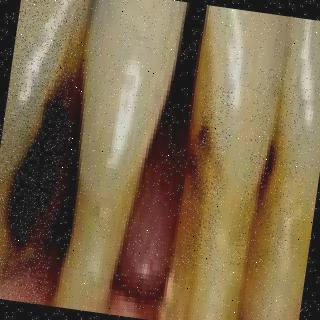cavities: (1, 82, 69, 288)
